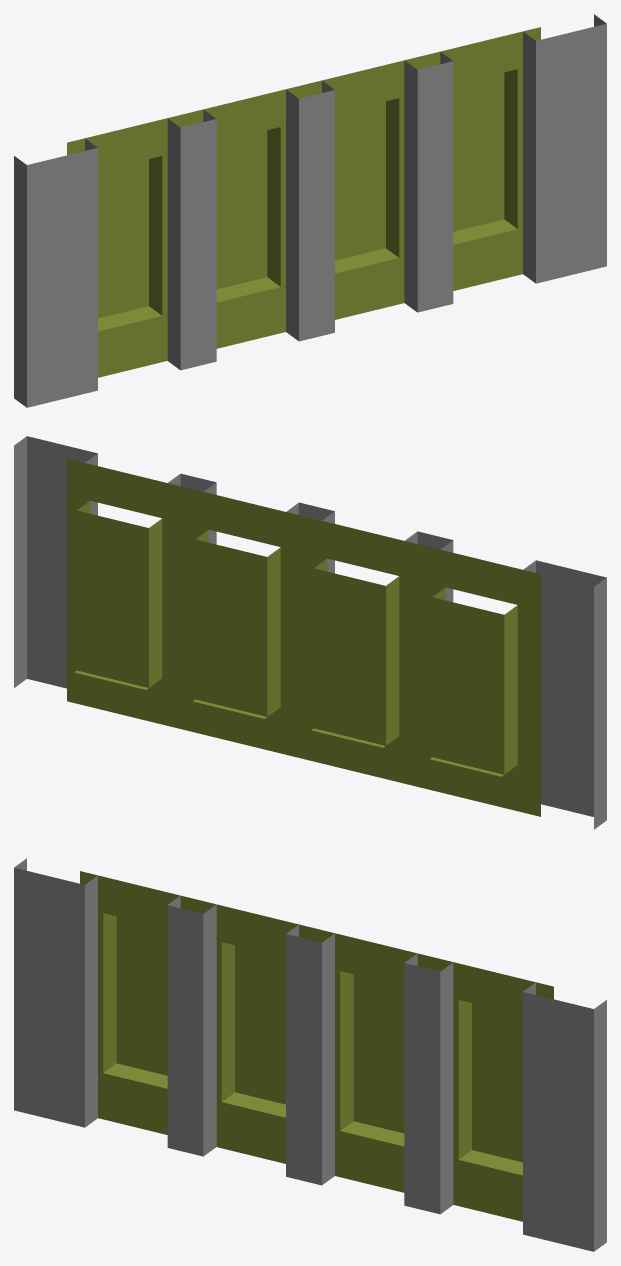
The model's file is wall1b lod1.FBX.
The picture shows the model from 3 angles, top to bottom: view 1: azimuth 30°, elevation 25°; view 2: azimuth 150°, elevation 25°; view 3: azimuth 330°, elevation 25°; orthographic projection.
Visible parts, largest first — view 1: Object319; view 2: Object319; view 3: Object319.
Part boxes in pixels (x1,y1,x2,y2): Object319: (14,14,606,407); Object319: (14,436,606,829); Object319: (14,858,606,1251).
Bounding box in the file's own units: 10 × 4 × 0.8696.
